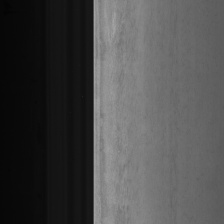silk_spot: (110, 26, 141, 216)
